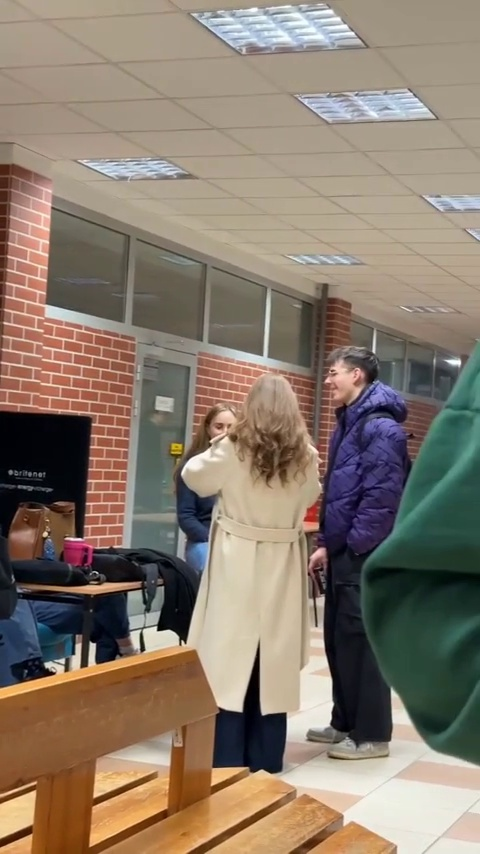no vest: (194, 377, 314, 730), (319, 335, 402, 731)
